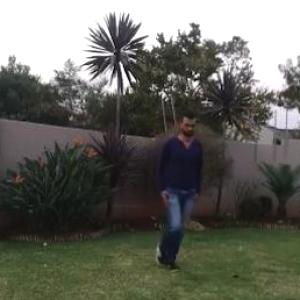follow: (156, 107, 199, 258)
